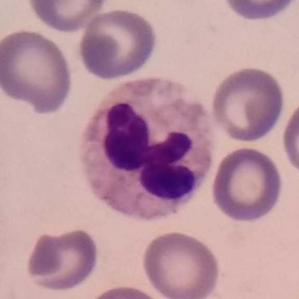Neutrophil: (75, 69, 223, 224)
RBC: (0, 27, 75, 115), (208, 64, 287, 144), (77, 6, 160, 81), (208, 144, 285, 224), (140, 228, 222, 299), (24, 225, 102, 294), (25, 0, 111, 34), (218, 0, 299, 23), (279, 96, 299, 180), (84, 282, 167, 299)
